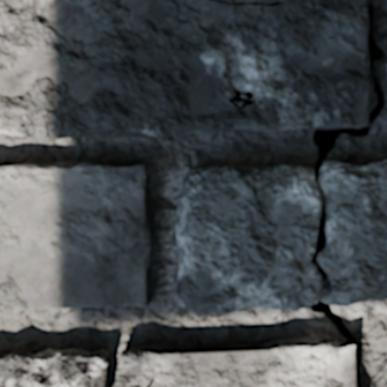brick: (0, 0, 372, 141), (0, 161, 154, 314), (114, 338, 357, 386), (0, 350, 110, 386), (385, 368, 386, 386)
broken_brick: (176, 164, 321, 315), (319, 160, 386, 307)
crack: (309, 2, 386, 384), (200, 0, 285, 7), (146, 377, 156, 386), (128, 384, 141, 386)
